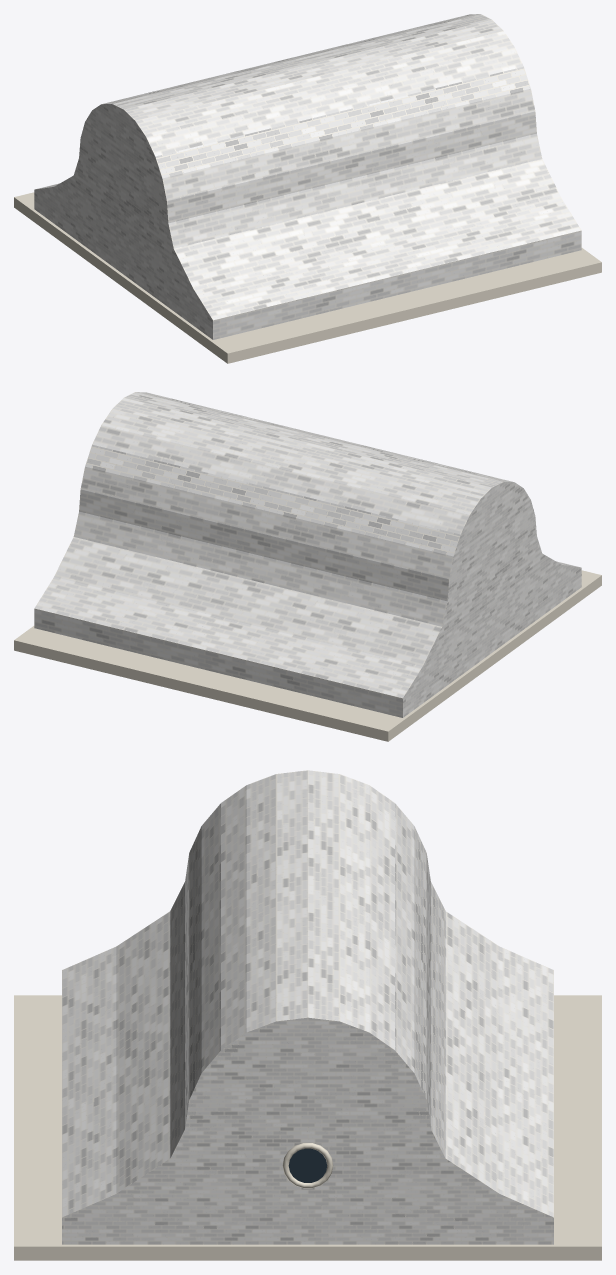
File: roof-bell-9.obj
The picture shows the model from 3 angles, top to bottom: view 1: azimuth 30°, elevation 25°; view 2: azimuth 150°, elevation 25°; view 3: azimuth 270°, elevation 25°; orthographic projection. The views are drawn at different scales.
Visible parts, largest first — view 1: part2, part1.nocast; view 2: part2, part1.nocast; view 3: part2, part1.nocast, part4.nocast, part5.nocast.
Part boxes in pixels (x1=…): part2: x1=34, y1=14, x2=581, y2=339; part1.nocast: x1=14, y1=192, x2=601, y2=363; part2: x1=34, y1=392, x2=581, y2=717; part1.nocast: x1=14, y1=570, x2=601, y2=741; part2: x1=62, y1=770, x2=553, y2=1244; part1.nocast: x1=14, y1=995, x2=601, y2=1260; part4.nocast: x1=288, y1=1148, x2=327, y2=1182; part5.nocast: x1=282, y1=1143, x2=333, y2=1188.
Bounding box in the file's own units: 9.15 × 4.09 × 9.04.
Materials: 4 (2 with a texture image).
